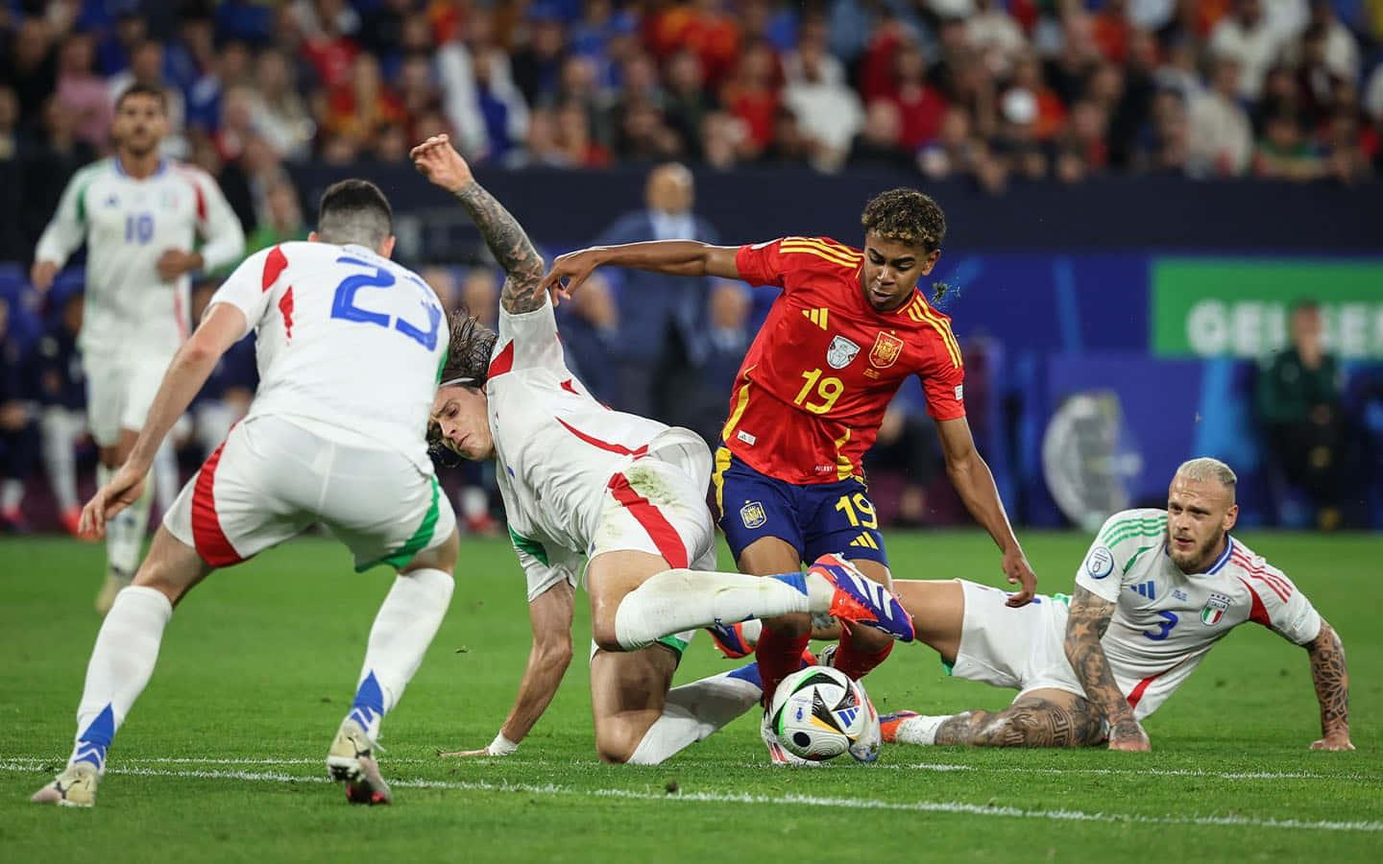ballon_football: (769, 664, 864, 762)
